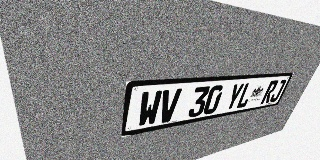0: (202, 85, 225, 115)
3: (187, 86, 211, 118)
J: (269, 79, 287, 103)
L: (235, 82, 256, 109)
R: (260, 80, 279, 104)
V: (157, 88, 182, 124)
W: (137, 90, 163, 128)
Y: (224, 83, 245, 111)
